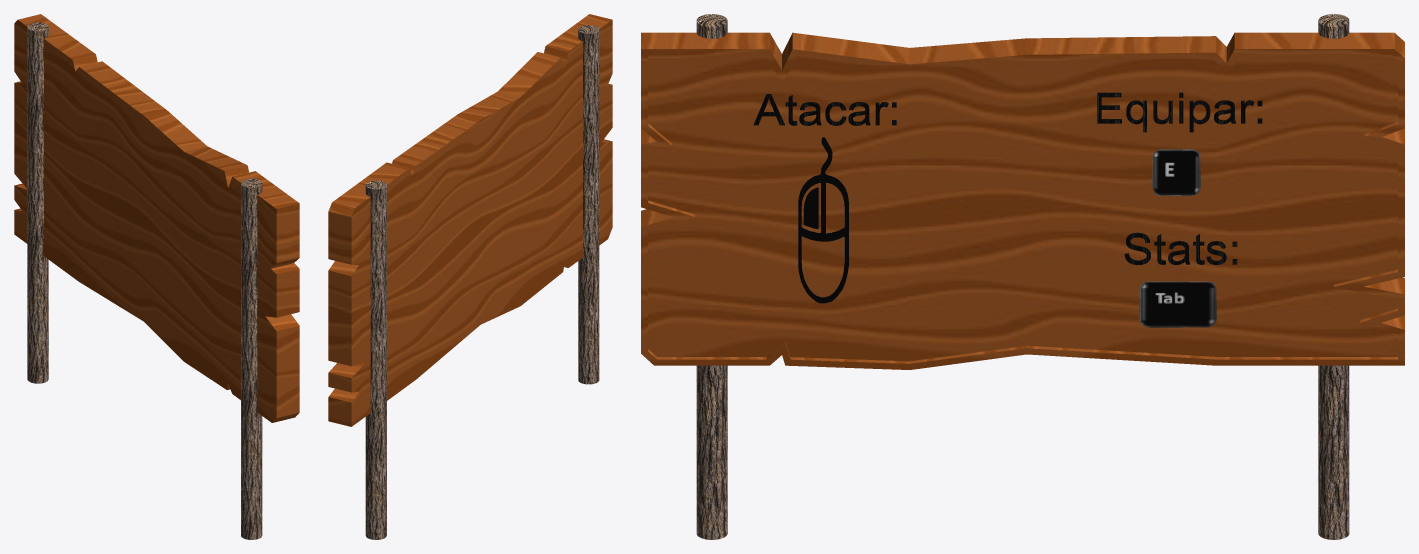
The model's file is CartelAtk.FBX.
3 views of the same model, side by side, from view 1: azimuth 30°, elevation 25°; view 2: azimuth 150°, elevation 25°; view 3: azimuth 270°, elevation 25° (orthographic). The views are drawn at different scales.
Visible parts, largest first — view 1: CartelAtk; view 2: CartelAtk; view 3: CartelAtk, LetrasAtk.
Part boxes in pixels (x1,y1,x2,y2): CartelAtk: (14,14,299,539); CartelAtk: (328,14,612,539); CartelAtk: (641,14,1404,539); LetrasAtk: (753,92,1262,264).
Size of the model in its own units: 107 by 1092 by 1474.
7 materials, 7 textured.
